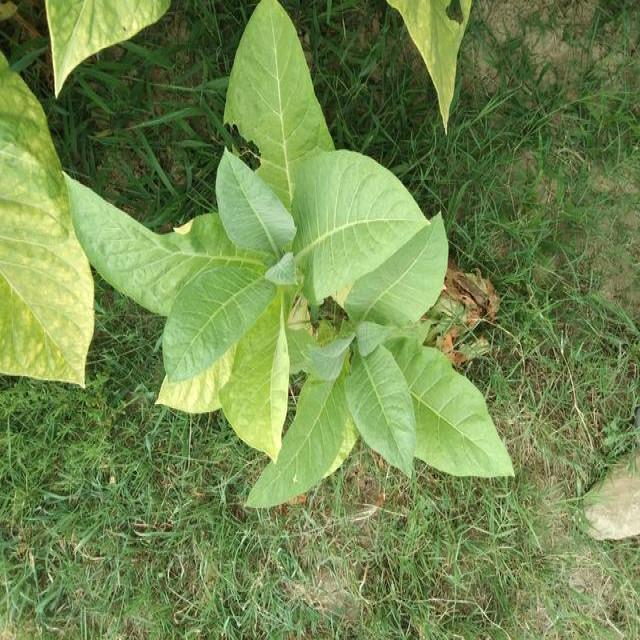crop: (145, 1, 515, 508)
